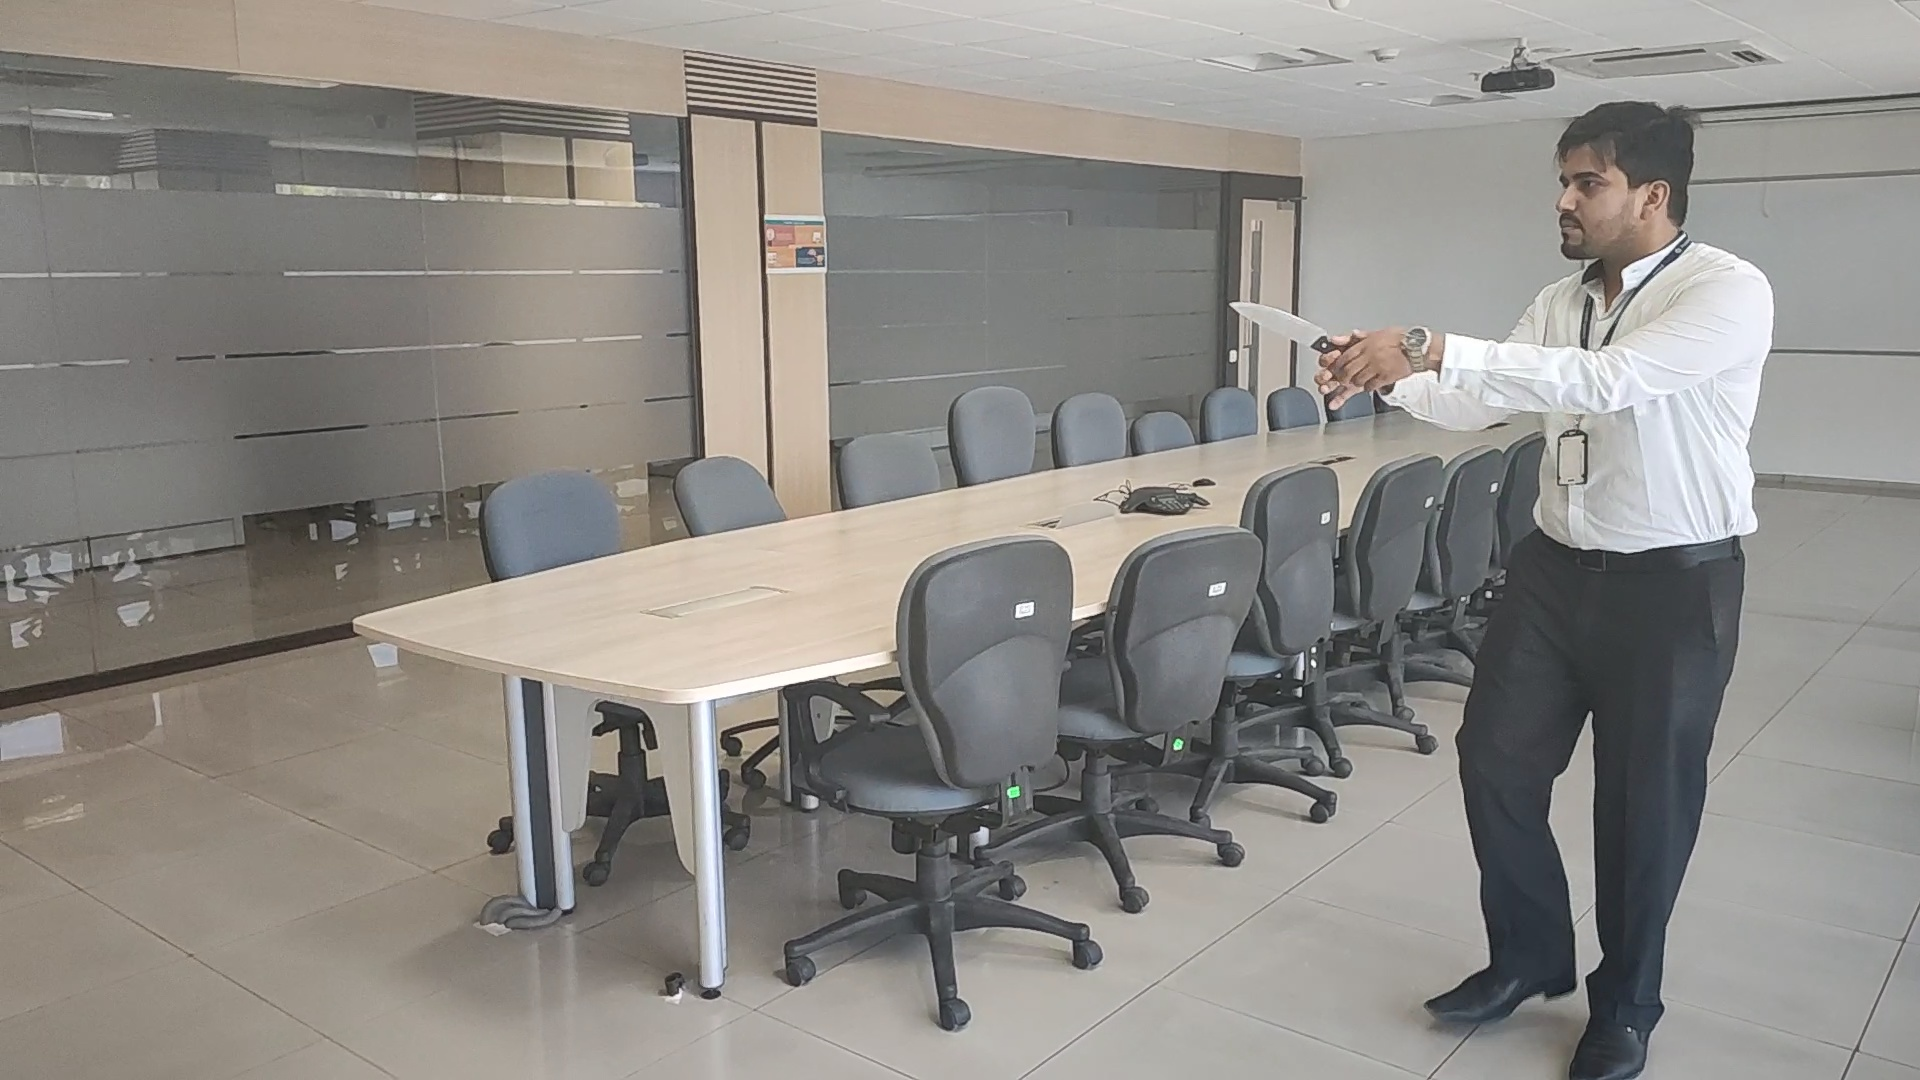knife: (1229, 294, 1342, 355)
